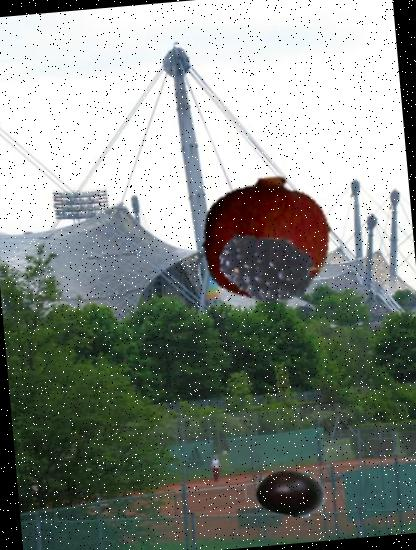Eggplant: (252, 454, 332, 534)
Mulberry: (213, 215, 330, 331)
Pomegranate: (197, 168, 338, 309)
